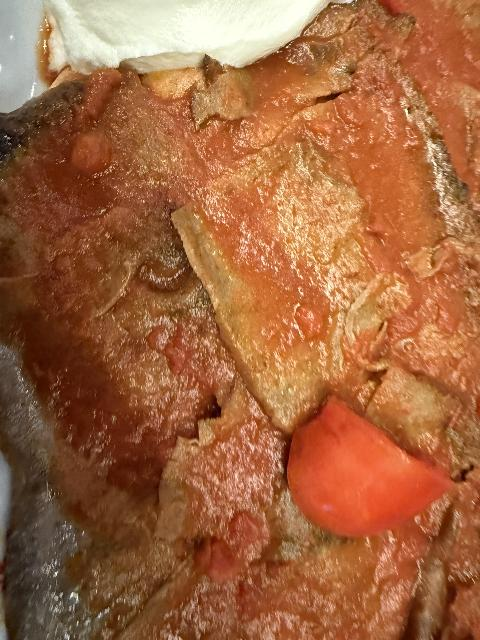Organik: (175, 94, 416, 408), (287, 410, 441, 540), (40, 0, 306, 60)
